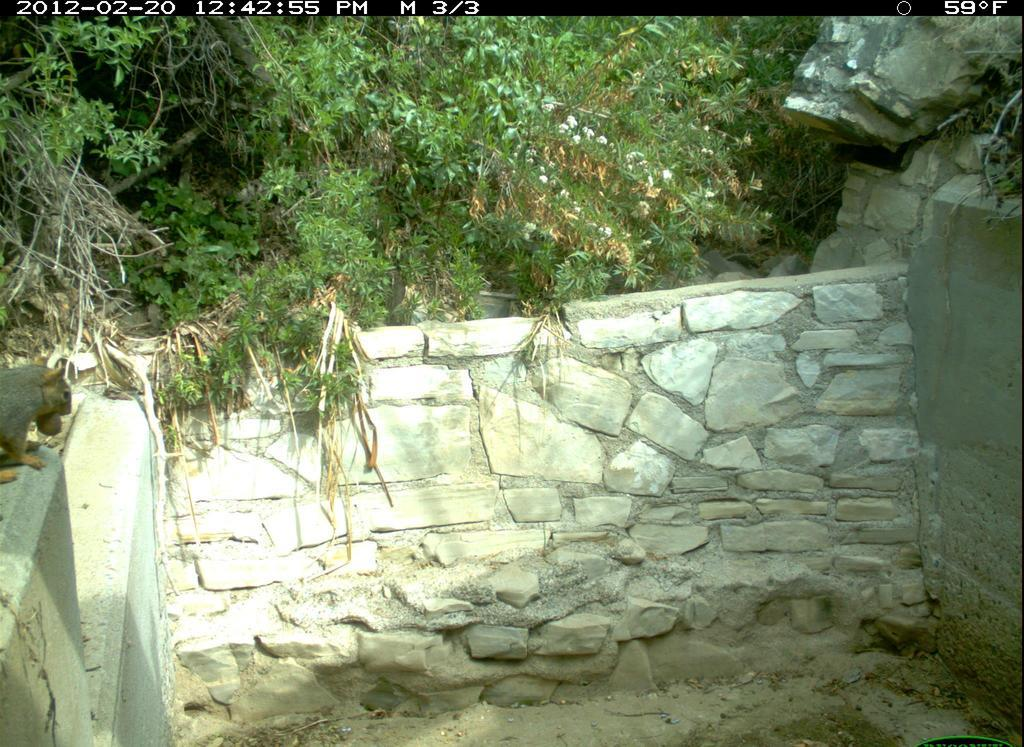squirrel: (1, 360, 76, 498)
